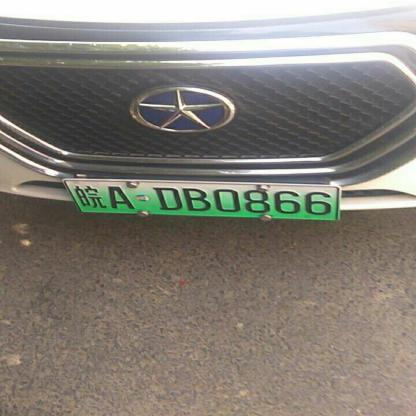lp: (65, 181, 338, 219)
